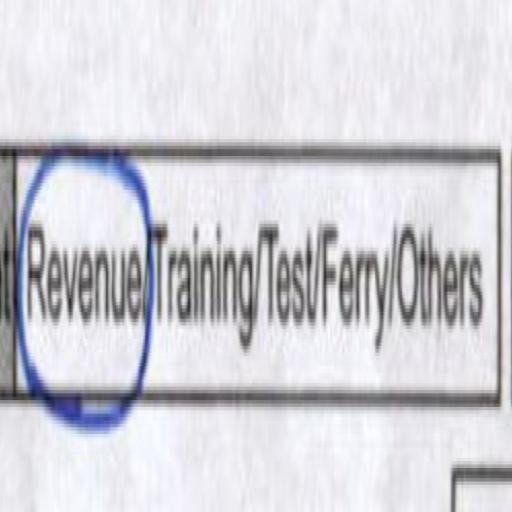check: (14, 99, 146, 455)
